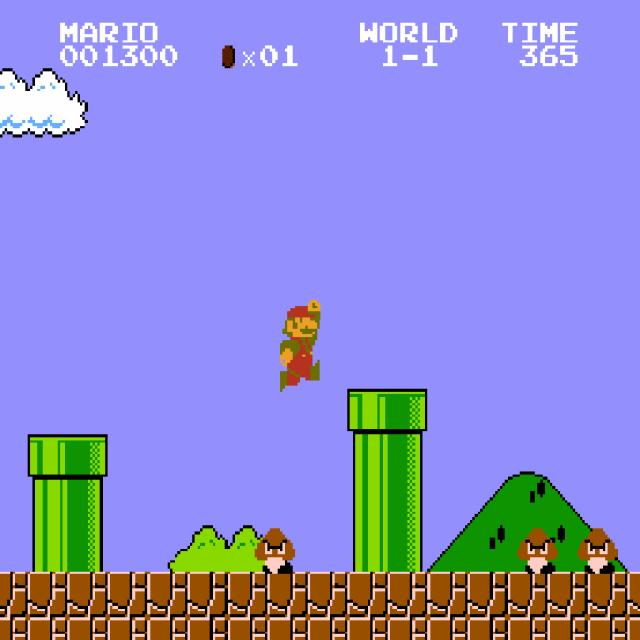big_mario: (277, 298, 320, 392)
goomba: (252, 526, 295, 574), (515, 526, 558, 574), (575, 526, 617, 574)
pipe: (27, 480, 68, 526), (67, 480, 108, 526), (347, 434, 388, 480), (347, 480, 388, 526), (387, 434, 428, 480), (387, 480, 428, 526), (27, 526, 68, 571), (67, 526, 108, 571), (347, 526, 388, 571), (387, 526, 428, 571)
pipe_head: (27, 434, 68, 480), (67, 434, 108, 480), (347, 389, 388, 434), (387, 389, 428, 434)
undestructible_block: (27, 572, 68, 617), (67, 572, 108, 617), (107, 572, 148, 617), (147, 572, 188, 617), (187, 572, 228, 617), (227, 572, 268, 617), (267, 572, 308, 617), (307, 572, 348, 617), (347, 572, 388, 617), (387, 572, 428, 617), (427, 572, 468, 617), (467, 572, 508, 617), (507, 572, 548, 617), (547, 572, 588, 617), (587, 572, 628, 617), (0, 572, 28, 617), (27, 617, 68, 640), (67, 617, 108, 640), (107, 617, 148, 640), (147, 617, 188, 640), (187, 617, 228, 640), (227, 617, 268, 640), (267, 617, 308, 640), (307, 617, 348, 640), (347, 617, 388, 640), (387, 617, 428, 640), (427, 617, 468, 640), (467, 617, 508, 640), (507, 617, 548, 640), (547, 617, 588, 640), (587, 617, 628, 640), (0, 617, 28, 640), (627, 572, 640, 617), (627, 617, 640, 640)
